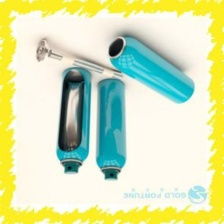aerosol_cans: (105, 33, 197, 106), (53, 62, 95, 178), (95, 74, 130, 184)
